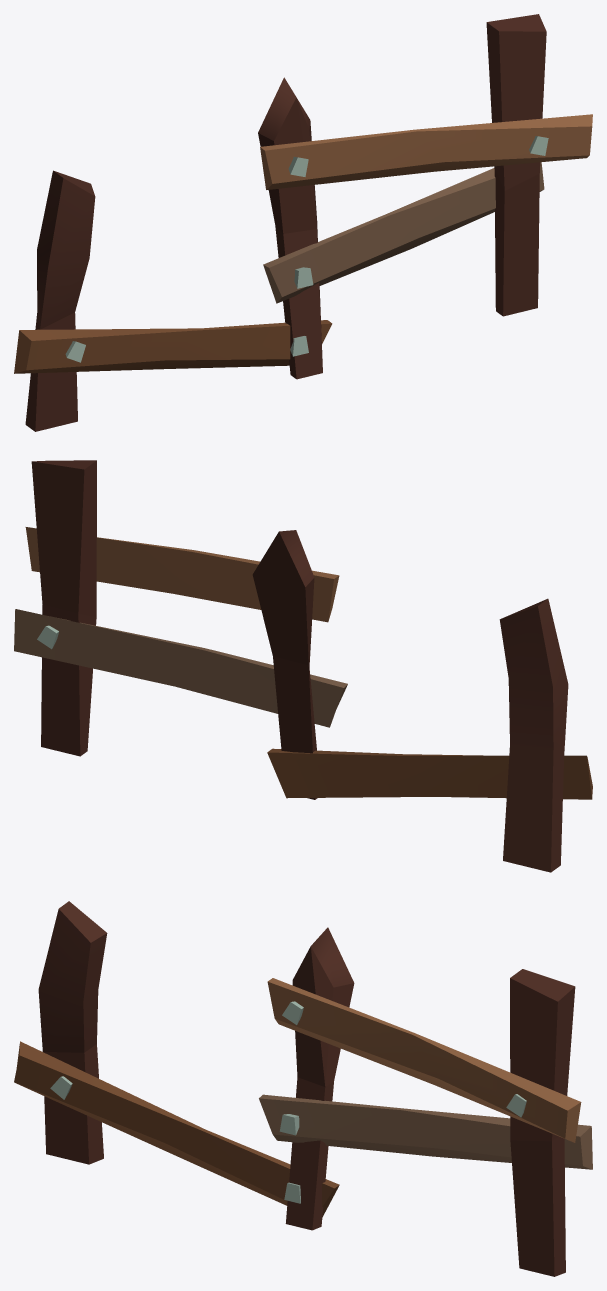
The model's file is SM_L_Fence_2.fbx.
The picture shows the model from 3 angles, top to bottom: view 1: azimuth 30°, elevation 25°; view 2: azimuth 150°, elevation 25°; view 3: azimuth 330°, elevation 25°; orthographic projection.
Parts seen in each view (by area): view 1: SM_L_Fence2; view 2: SM_L_Fence2; view 3: SM_L_Fence2.
Part boxes in pixels (x1,y1,x2,y2): SM_L_Fence2: (14,14,592,431); SM_L_Fence2: (14,460,592,872); SM_L_Fence2: (14,901,592,1276).
Bounding box in the file's own units: 71.67 × 34.64 × 8.55.
